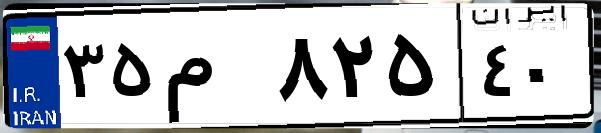0: (525, 38, 570, 115)
2: (330, 28, 385, 110)
3: (57, 26, 110, 100)
4: (475, 38, 525, 113)
5: (385, 28, 445, 110), (110, 28, 158, 98)
8: (270, 28, 330, 110)
م: (158, 20, 270, 120)
